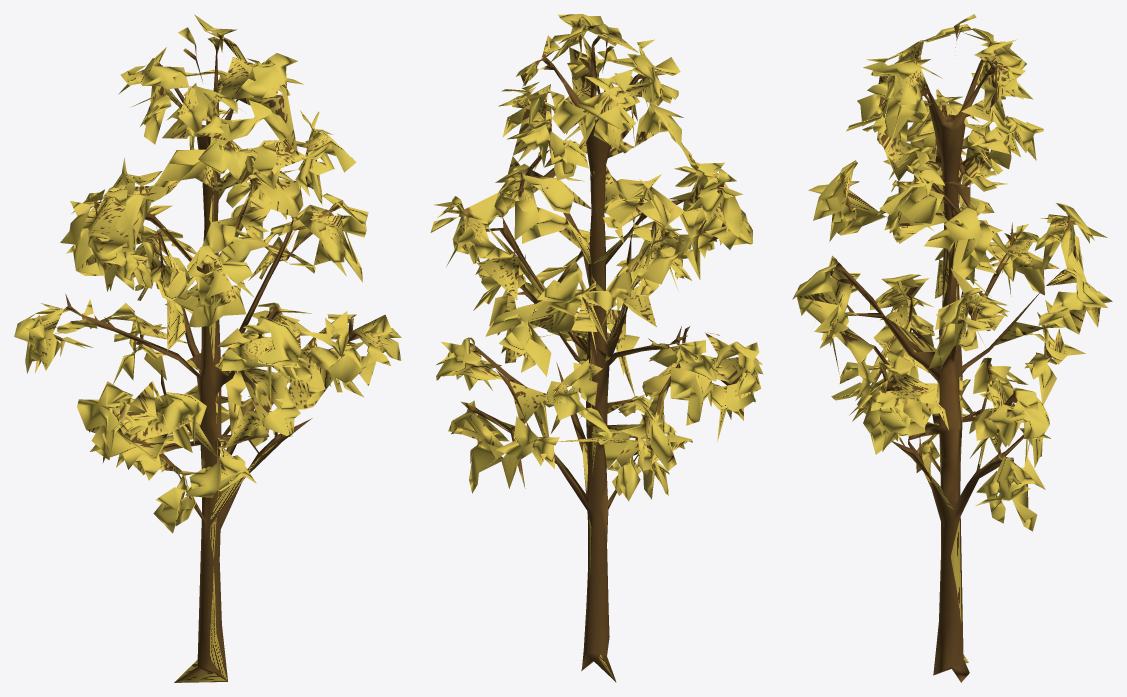
File: slender-tree.glb
3 views of the same model, side by side, from view 1: azimuth 30°, elevation 25°; view 2: azimuth 150°, elevation 25°; view 3: azimuth 270°, elevation 25° (orthographic).
Parts seen in each view (by area): view 1: tripo_node_1feb63ea-056d-42e1-bc4f-0e6da2bfe0e8 (×2); view 2: tripo_node_1feb63ea-056d-42e1-bc4f-0e6da2bfe0e8 (×2); view 3: tripo_node_1feb63ea-056d-42e1-bc4f-0e6da2bfe0e8 (×2).
Part boxes in pixels (<box>): tripo_node_1feb63ea-056d-42e1-bc4f-0e6da2bfe0e8 (×2): <box>14,14,401,682</box>; tripo_node_1feb63ea-056d-42e1-bc4f-0e6da2bfe0e8 (×2): <box>430,14,762,681</box>; tripo_node_1feb63ea-056d-42e1-bc4f-0e6da2bfe0e8 (×2): <box>792,14,1112,682</box>.
Bounding box in the file's own units: 5.65 × 11 × 4.89.
Materials: 1 (1 with a texture image).
